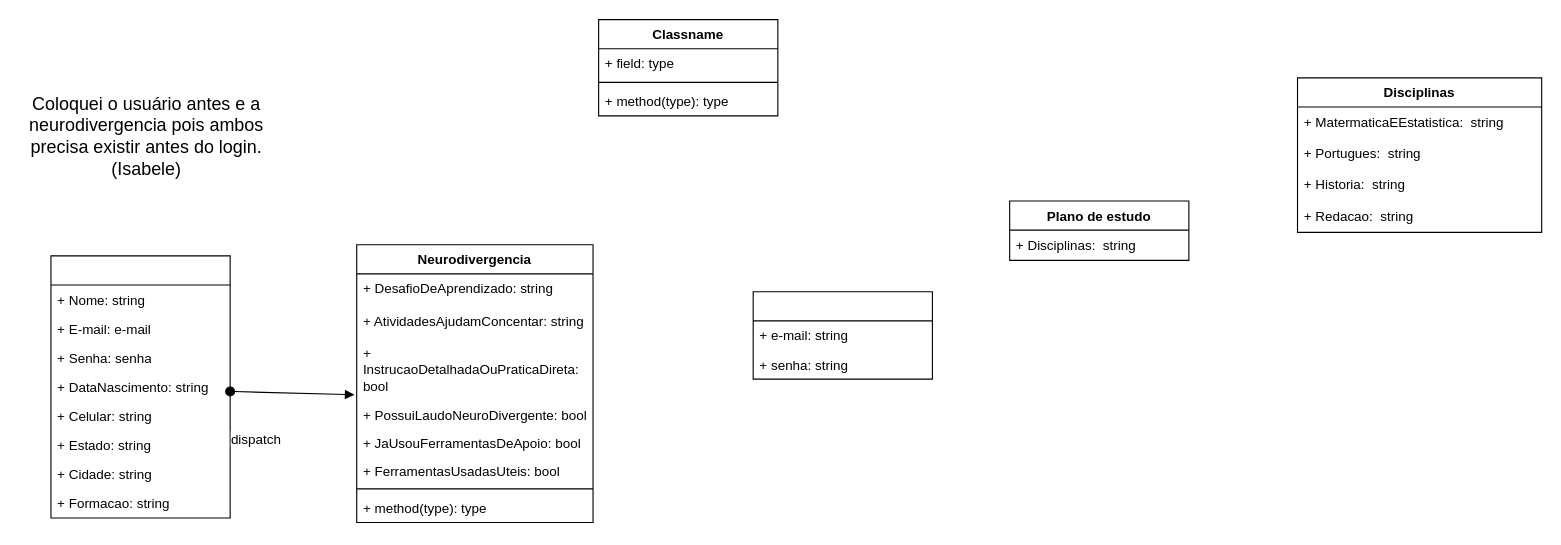
This 1561x545 diagram has some shape labels left out. Each missing label, with the box of its shape:
Login: (752, 291, 932, 379)
Usuario: (50, 255, 230, 518)
